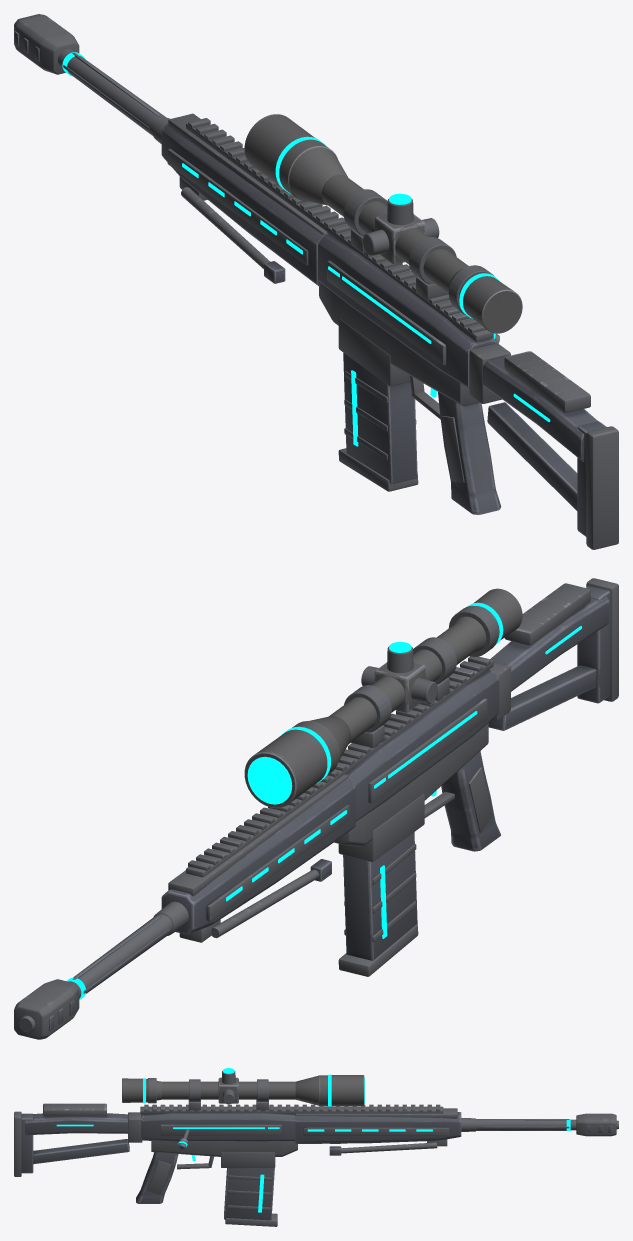
File: sniper_opt.glb
The picture shows the model from 3 angles, top to bottom: view 1: azimuth 30°, elevation 25°; view 2: azimuth 150°, elevation 25°; view 3: azimuth 270°, elevation 25°; orthographic projection. The views are drawn at different scales.
Visible parts, largest first — view 1: Sniper_MetalGunmetal, Sniper_ChassisDark, Sniper_ScopeOptic, Sniper_CyanEmissive; view 2: Sniper_MetalGunmetal, Sniper_ChassisDark, Sniper_ScopeOptic, Sniper_CyanEmissive; view 3: Sniper_MetalGunmetal, Sniper_ChassisDark, Sniper_ScopeOptic, Sniper_CyanEmissive.
Part boxes in pixels (x1,y1,x2,y2): Sniper_MetalGunmetal: (14, 14, 618, 549); Sniper_ChassisDark: (14, 31, 606, 536); Sniper_ScopeOptic: (244, 114, 522, 333); Sniper_CyanEmissive: (62, 52, 550, 446); Sniper_MetalGunmetal: (14, 578, 618, 1039); Sniper_ChassisDark: (49, 586, 610, 1030); Sniper_ScopeOptic: (244, 588, 522, 808); Sniper_CyanEmissive: (66, 602, 581, 999); Sniper_MetalGunmetal: (14, 1071, 618, 1226); Sniper_ChassisDark: (21, 1112, 612, 1220); Sniper_ScopeOptic: (122, 1075, 364, 1106); Sniper_CyanEmissive: (56, 1068, 570, 1212).
Bounding box in the file's own units: 0.1035 × 0.3347 × 1.2.
4 materials, 4 textured.
